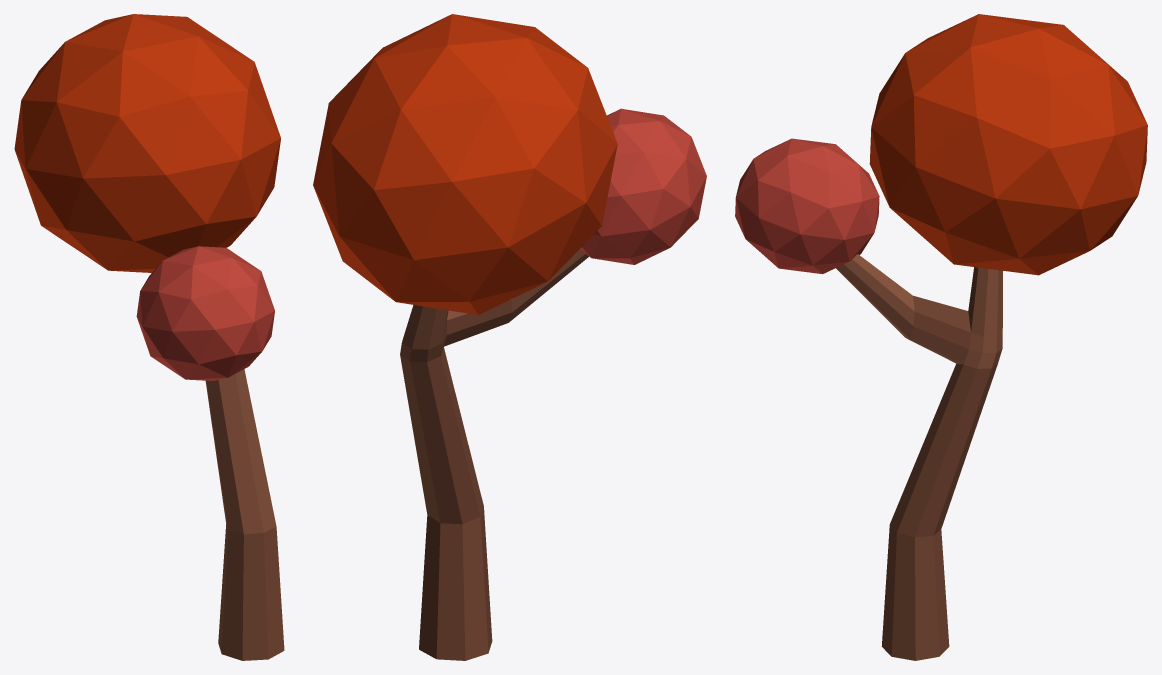
File: Tree_02_summer_red_vc.fbx
The picture shows the model from 3 angles, left to right: view 1: azimuth 30°, elevation 25°; view 2: azimuth 150°, elevation 25°; view 3: azimuth 270°, elevation 25°; orthographic projection. The views are drawn at different scales.
Parts seen in each view (by area): view 1: Tree_02_summer_red_vc; view 2: Tree_02_summer_red_vc; view 3: Tree_02_summer_red_vc.
Boxes of the visible parts, x1,y1,x2,y2 form: Tree_02_summer_red_vc: (14, 14, 284, 660); Tree_02_summer_red_vc: (313, 14, 706, 660); Tree_02_summer_red_vc: (735, 14, 1147, 660).
Bounding box in the file's own units: 71.42 × 177 × 112.
